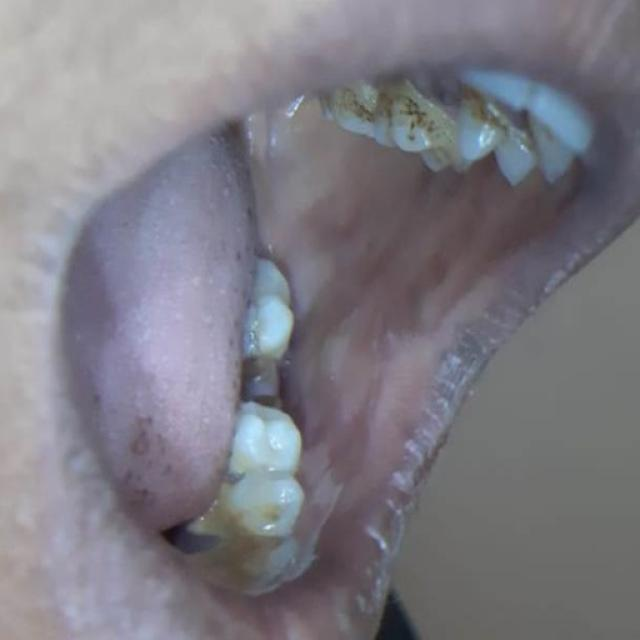leukoplakia-like-detection: (225, 258, 511, 598), (242, 106, 372, 326)
processing_area: (60, 96, 607, 586)
